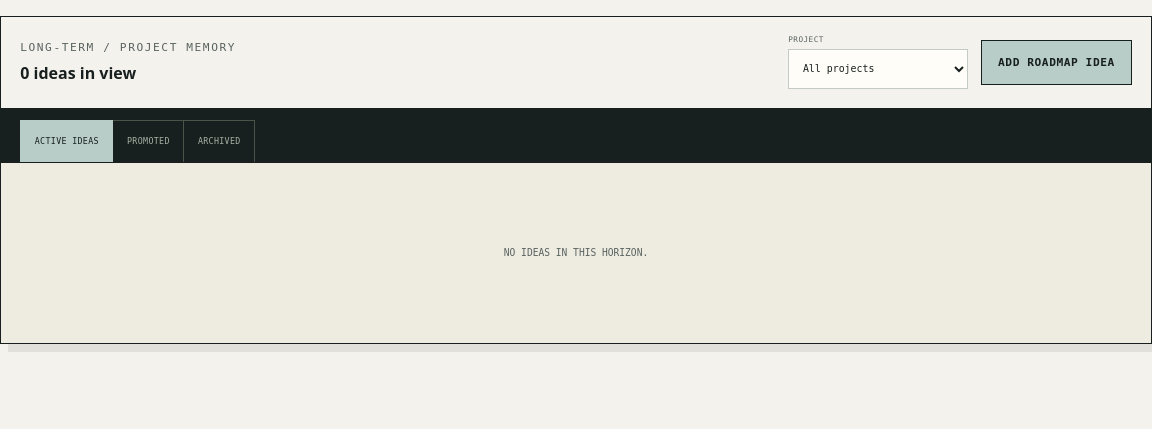
it: RoadmapWorkspace › shows promoted ideas as read-only history
This screenshot has width=1152, height=429.
Click the button "Promoted" at (149, 141), box [113,120,184,162]
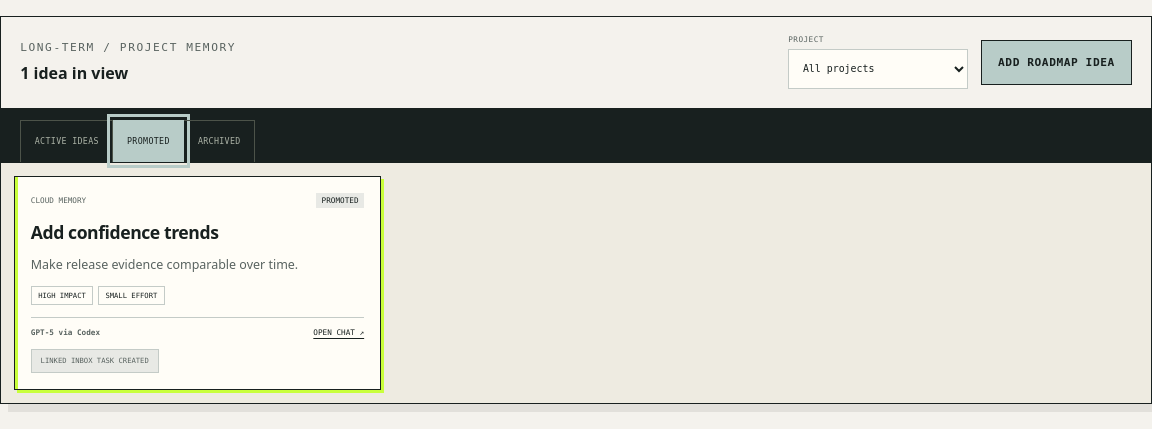
Expected: the text "Linked Inbox task created" is shown, [31,348,159,373]
